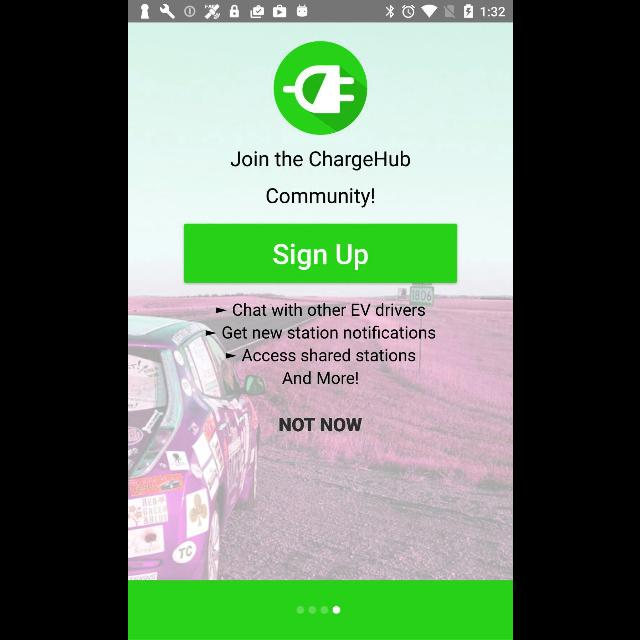backgroundimage: (128, 23, 512, 580)
image: (273, 41, 367, 135)
pageindicator: (296, 605, 340, 615)
text: (229, 150, 409, 172), (203, 324, 435, 340), (212, 302, 424, 316), (223, 348, 414, 362), (266, 188, 374, 208), (280, 369, 358, 385), (278, 418, 362, 432)
textbutton: (184, 223, 456, 283)
uppertaskbar: (128, 1, 512, 23)
